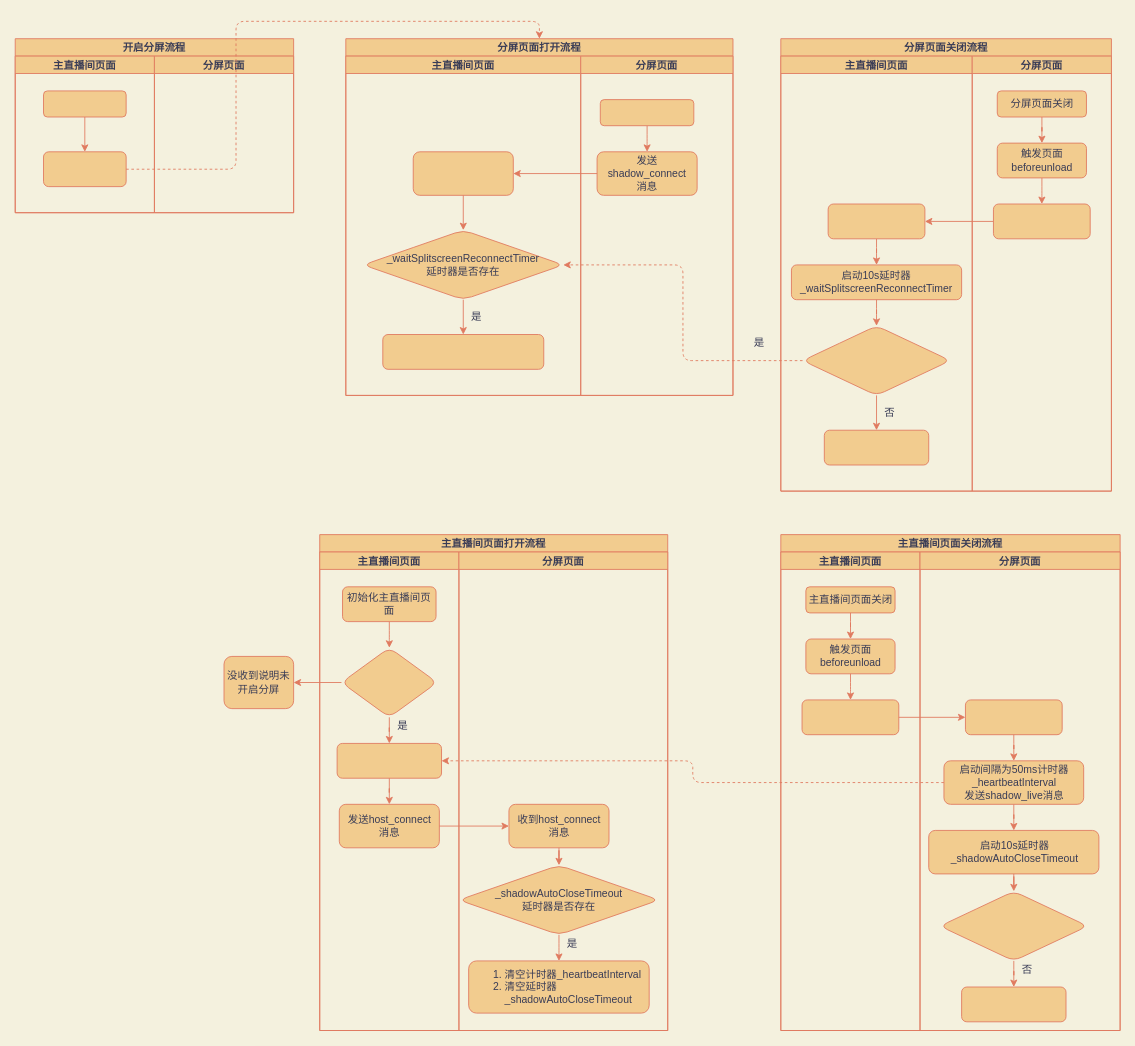
Image size: 1135x1046. Some labels were removed from this diagram. Each missing label, with the centre of its shape:
"window.open打开分屏页面" belongs at point (84, 169).
"关闭当前页面，分屏关闭" belongs at point (1013, 1004).
"初始化分屏页面" belongs at point (646, 112).
"十秒内是否收到 host_connect 消息" belongs at point (1013, 925).
"十秒内是否收到 shadow_connect 消息" belongs at point (876, 360).
"发送 host_close消息" belongs at point (850, 717).
"发送 shadow_close消息" belongs at point (1041, 221).
"执行分屏关闭成功的逻辑" belongs at point (876, 447).
"收到 host_close消息" belongs at point (1013, 717).
"收到 shadow_close消息" belongs at point (876, 221).
"收到shadow_connect 消息" belongs at point (462, 173).
"收到说明分屏开启" belongs at point (389, 760).
"是否收到shadow_live消息" belongs at point (389, 682).
"清空延时器 _waitSplitscreenReconnectTimer" belongs at point (463, 351).
"点击开启分屏" belongs at point (84, 103).
